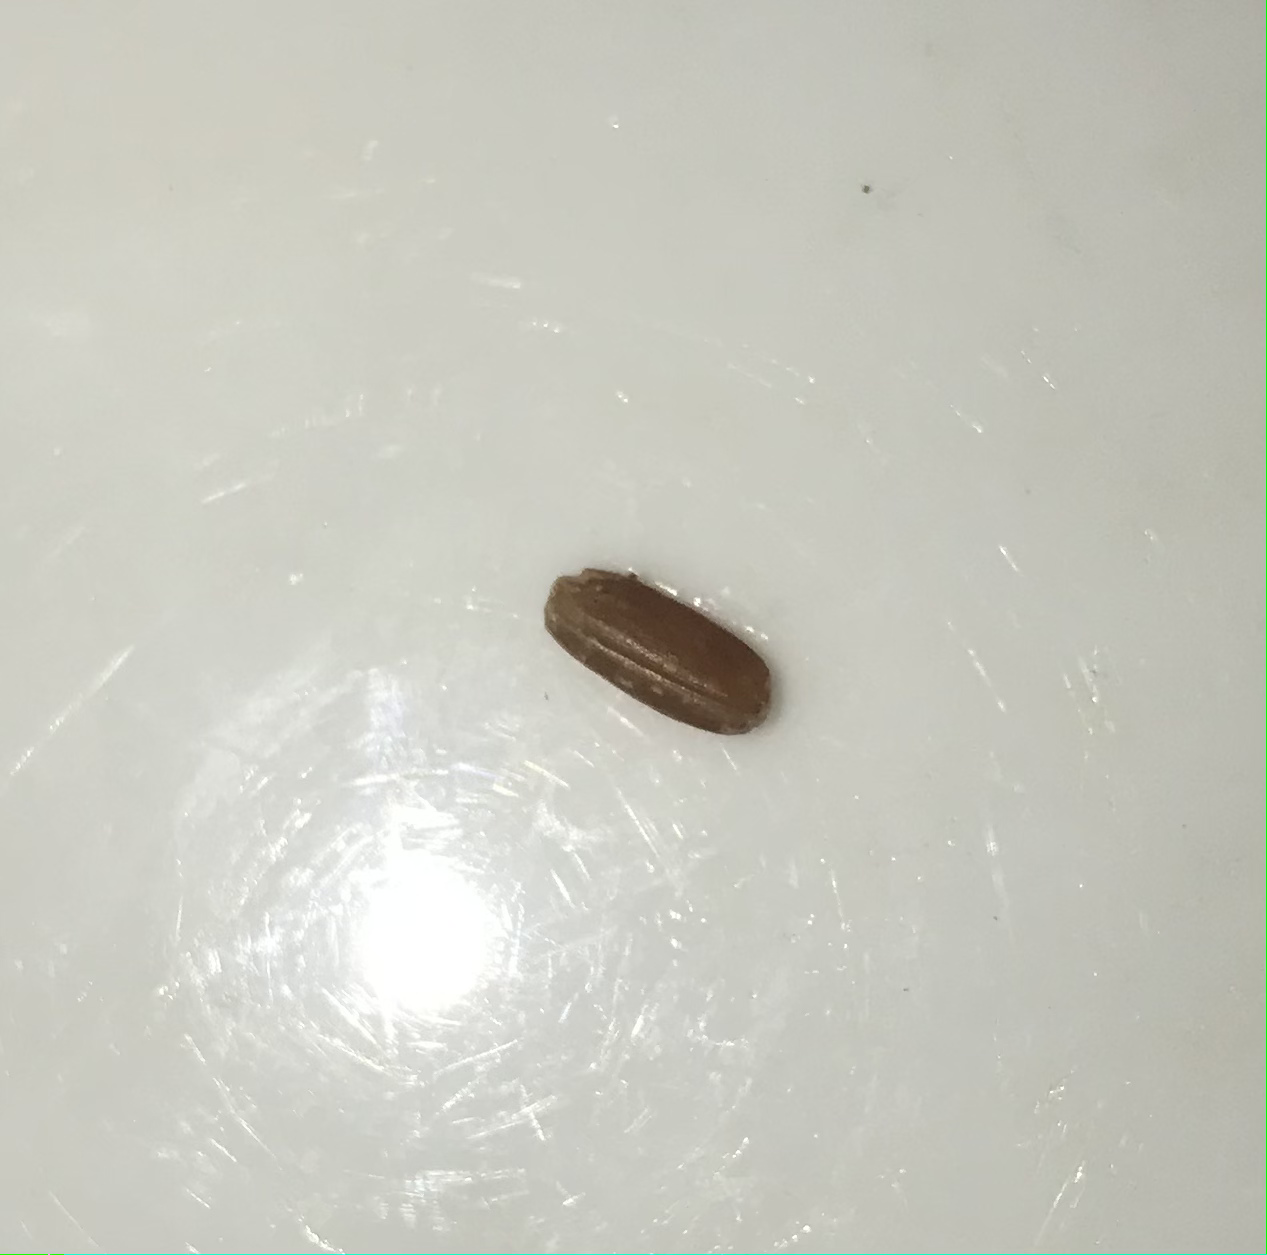Gao Lut Do: (510, 532, 796, 750)
